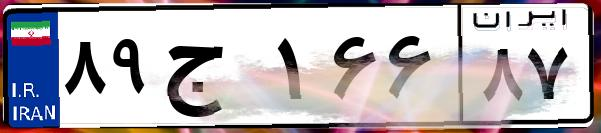1: (270, 28, 330, 110)
6: (385, 28, 445, 110), (330, 28, 385, 110)
7: (525, 38, 570, 115)
8: (57, 26, 110, 100), (475, 38, 525, 113)
9: (110, 28, 158, 98)
ج: (158, 20, 270, 120)
